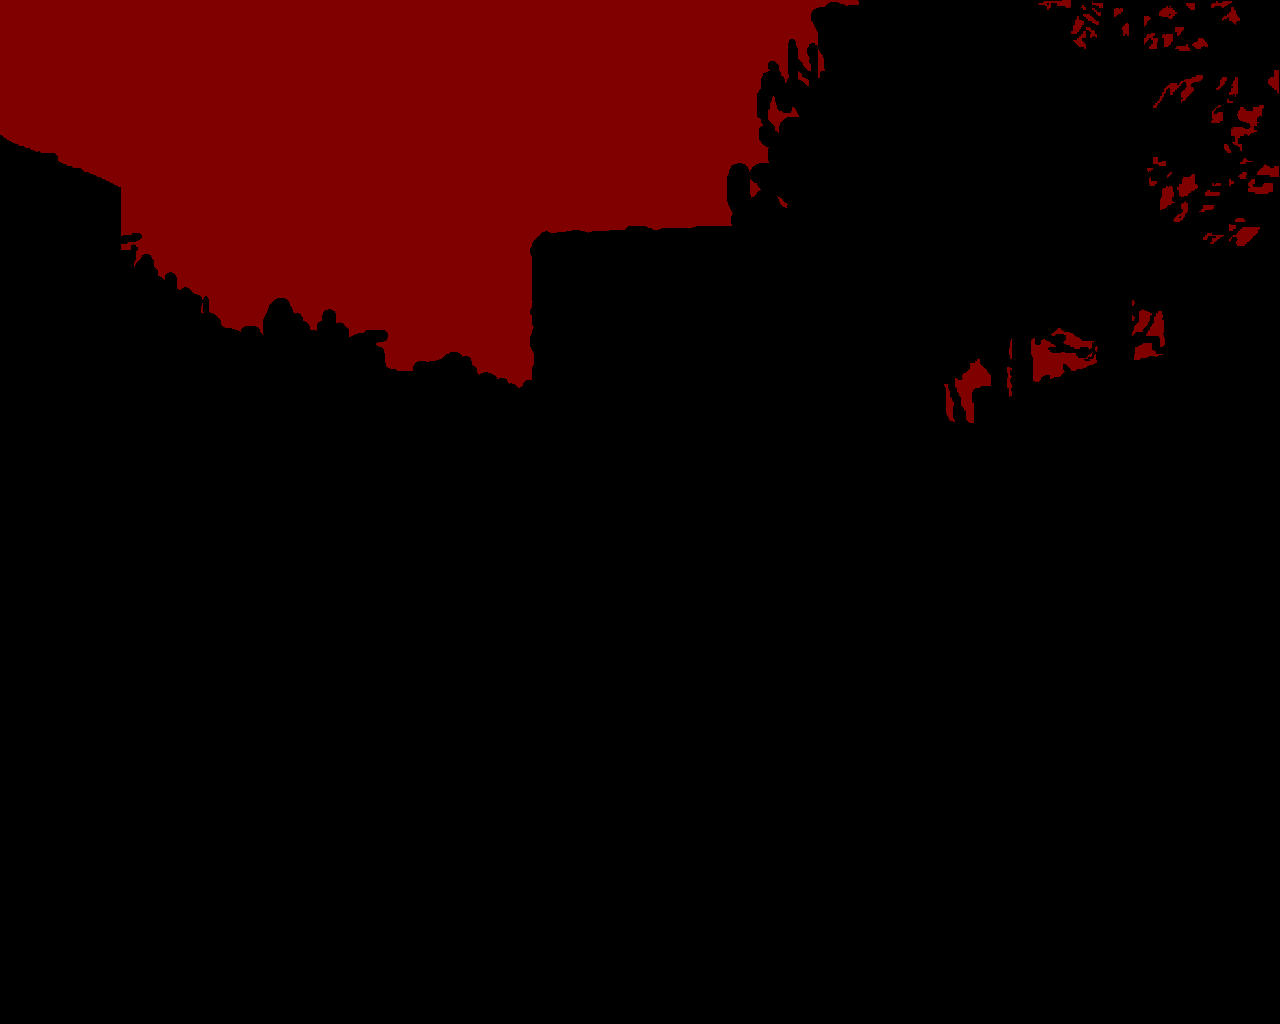Sky: (1, 1, 1278, 423)
